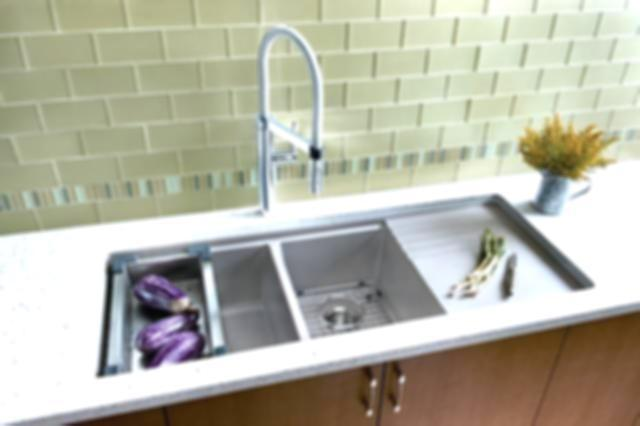Lavaplatos: (86, 3, 595, 391)
